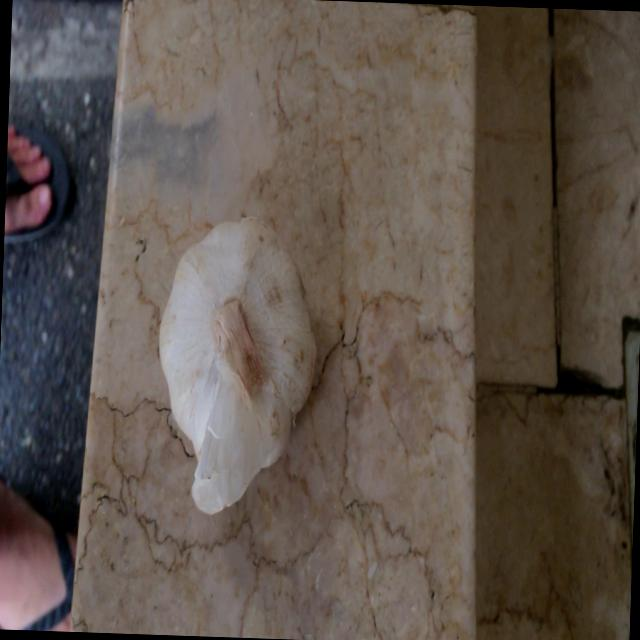garlic: (148, 212, 322, 520)
